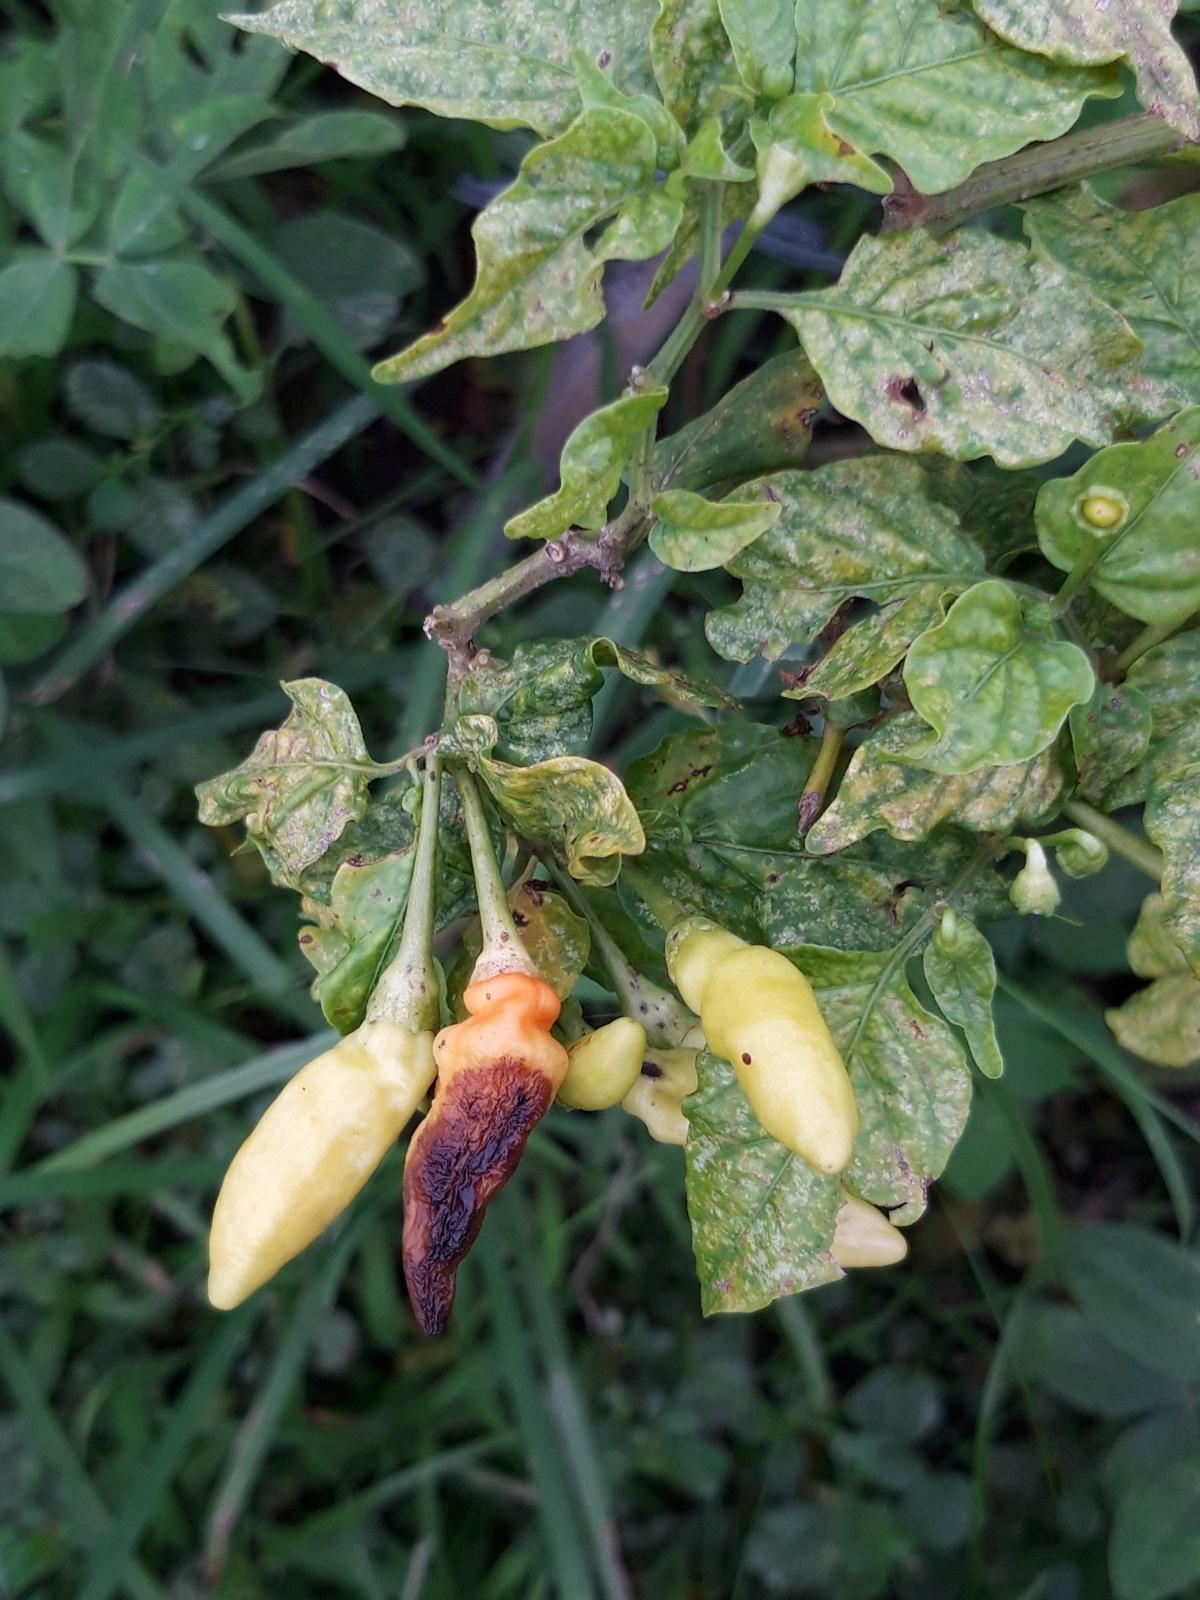antraknosa: (405, 954, 568, 1337)
cabai_normal: (207, 965, 439, 1310), (666, 917, 861, 1175)
